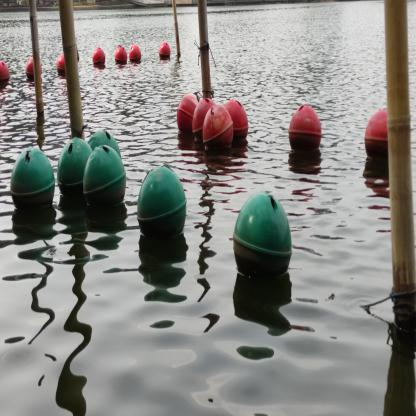green_buoy: (231, 190, 295, 288), (136, 164, 188, 247), (82, 145, 127, 217), (9, 146, 56, 214), (56, 138, 93, 200), (86, 127, 123, 168)
red_buoy: (288, 102, 324, 158), (202, 101, 235, 152), (363, 108, 391, 165), (192, 95, 217, 145), (223, 97, 250, 141), (176, 89, 200, 135), (25, 56, 43, 81), (92, 46, 106, 68), (114, 45, 128, 66), (158, 41, 172, 61), (128, 44, 142, 64), (56, 53, 67, 77), (0, 60, 11, 84)
